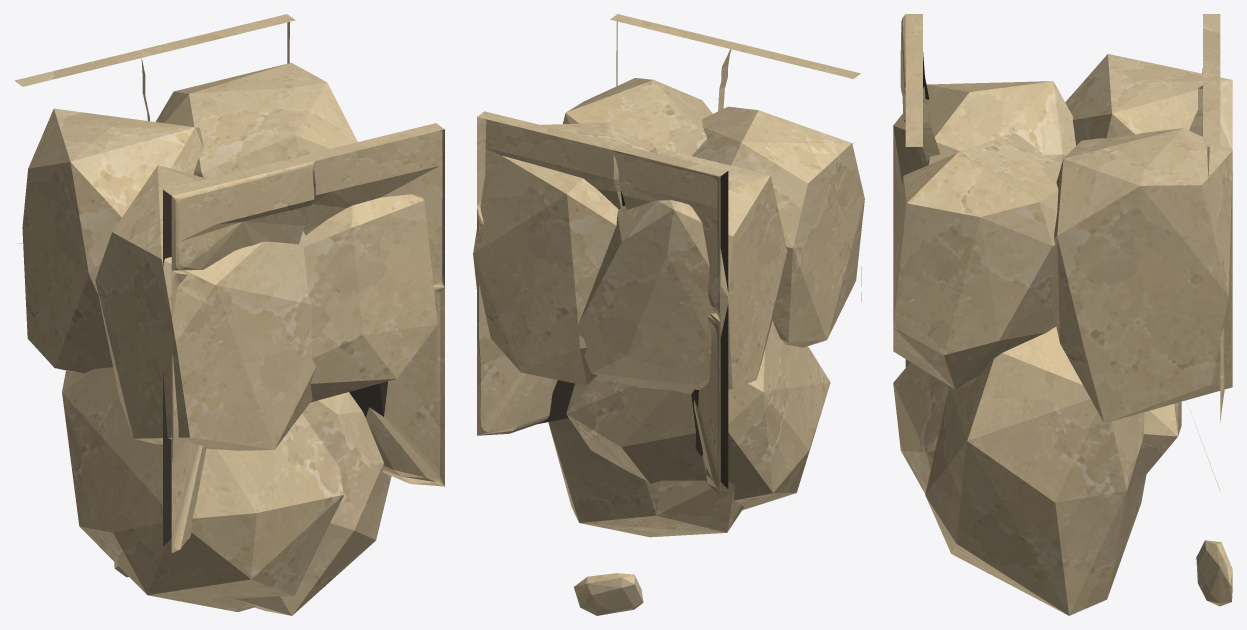
The model's file is ground_bottom_strip_04.glb.
3 views of the same model, side by side, from view 1: azimuth 30°, elevation 25°; view 2: azimuth 150°, elevation 25°; view 3: azimuth 270°, elevation 25° (orthographic). The views are drawn at different scales.
Parts seen in each view (by area): view 1: GroundBottomStrip04_Body; view 2: GroundBottomStrip04_Body; view 3: GroundBottomStrip04_Body.
Part boxes in pixels (bbox=[...]): GroundBottomStrip04_Body: bbox=[14, 14, 444, 615]; GroundBottomStrip04_Body: bbox=[473, 14, 864, 615]; GroundBottomStrip04_Body: bbox=[893, 14, 1232, 615].
Size of the model in its own units: 1 by 1.84 by 1.08.
10 materials, 9 textured.
